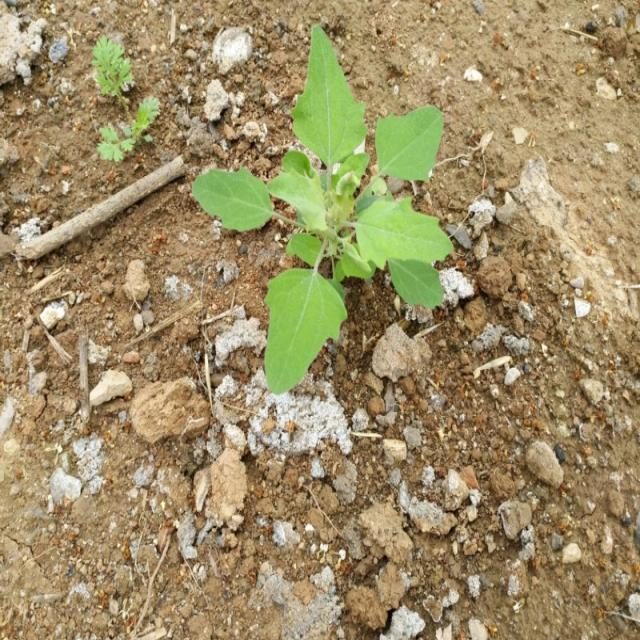ca: (199, 32, 454, 386)
